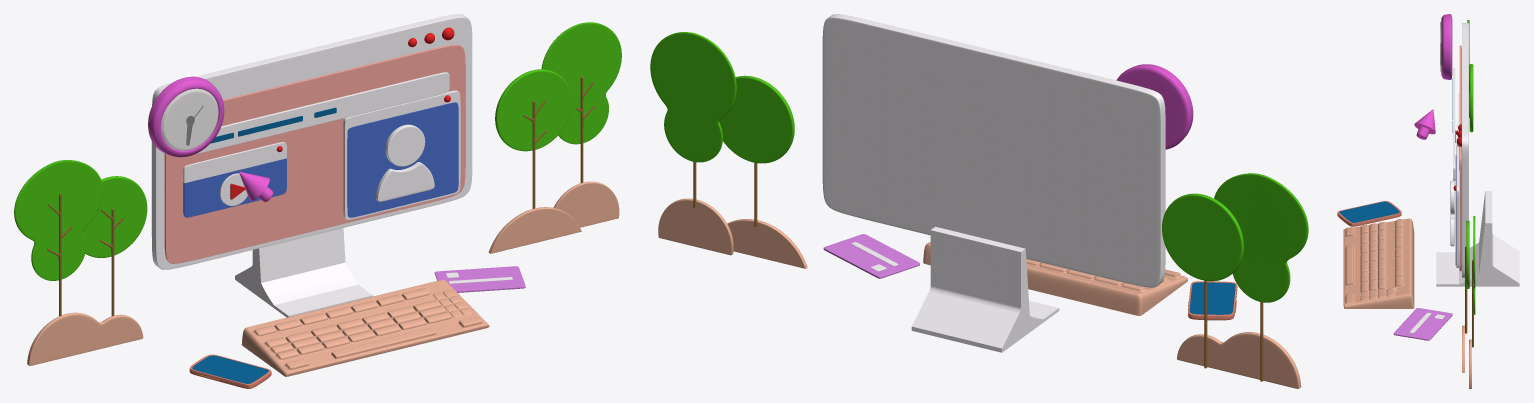
The model's file is computer-transformed.glb.
3 renders of one model, left to right at view 1: azimuth 30°, elevation 25°; view 2: azimuth 150°, elevation 25°; view 3: azimuth 270°, elevation 25°, orthographic. The views are drawn at different scales.
Parts seen in each view (by area): view 1: Plane_Material.003_0, Plane.014, Circle.010, Circle.006, Plane.009, Circle.003, Plane.015, Circle, Circle.007, User, object 26, Circle.001 (+10 smaller); view 2: Plane_Material.003_0, Circle.006, Circle.010, Circle.007, Circle.003, Circle, Circle.002, Circle.001, object 16, object 15; view 3: Plane_Material.003_0, object 16, object 15, Plane.013, Circle.011, object 14, Plane.009, Circle.007, User, Circle.006, Circle.003, Circle.004 (+2 smaller).
Boxes of the visible parts, bbox=[...] form: Plane_Material.003_0: bbox=[148, 14, 489, 376]; Plane.014: bbox=[347, 102, 458, 217]; Circle.010: bbox=[14, 160, 103, 280]; Circle.006: bbox=[541, 22, 621, 144]; Plane.009: bbox=[196, 72, 449, 153]; Circle.003: bbox=[495, 69, 571, 151]; Plane.015: bbox=[183, 142, 286, 217]; Circle: bbox=[27, 312, 143, 365]; Circle.007: bbox=[83, 176, 147, 257]; User: bbox=[375, 124, 434, 201]; object 26: bbox=[161, 88, 218, 150]; Circle.001: bbox=[488, 207, 581, 253]; Plane_Material.003_0: bbox=[822, 14, 1193, 352]; Circle.006: bbox=[650, 32, 736, 162]; Circle.010: bbox=[1214, 173, 1308, 302]; Circle.007: bbox=[1162, 193, 1243, 281]; Circle.003: bbox=[719, 75, 794, 163]; Circle: bbox=[1177, 332, 1301, 388]; Circle.002: bbox=[658, 198, 733, 255]; Circle.001: bbox=[727, 219, 807, 268]; object 16: bbox=[823, 234, 919, 278]; object 15: bbox=[1189, 282, 1235, 314]; Plane_Material.003_0: bbox=[1343, 14, 1519, 308]; object 16: bbox=[1393, 308, 1452, 340]; object 15: bbox=[1339, 201, 1399, 222]; Plane.013: bbox=[1456, 146, 1459, 267]; Circle.011: bbox=[1414, 109, 1435, 139]; object 14: bbox=[1337, 201, 1401, 226]; Plane.009: bbox=[1453, 68, 1455, 180]; Circle.007: bbox=[1469, 64, 1473, 132]; User: bbox=[1450, 180, 1454, 246]; Circle.006: bbox=[1473, 216, 1475, 314]; Circle.003: bbox=[1466, 220, 1469, 288]; Circle.004: bbox=[1465, 246, 1467, 333].
Size of the model in its own units: 3.27 by 1.32 by 1.08.
Materials: 2 (2 with a texture image).
